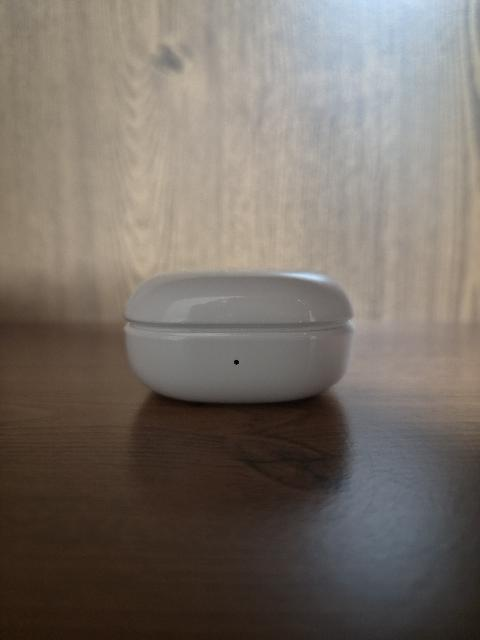earphone_case: (123, 269, 355, 405)
